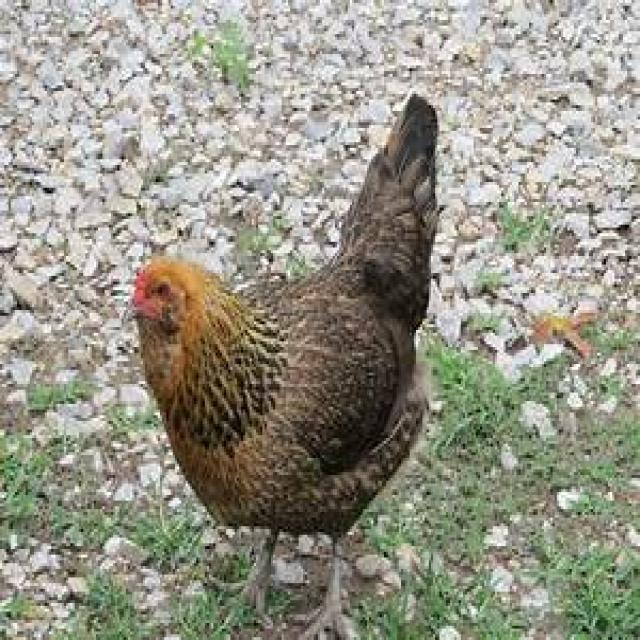hen: (132, 94, 439, 640)
